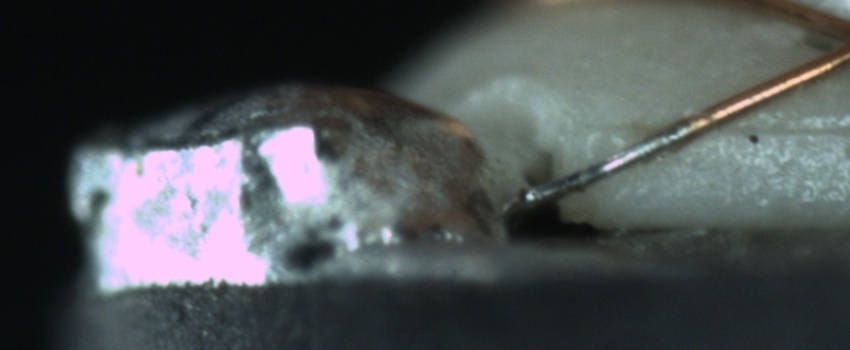CL: (802, 5, 850, 82)
DL: (620, 101, 849, 155)
TS: (524, 121, 697, 206)
